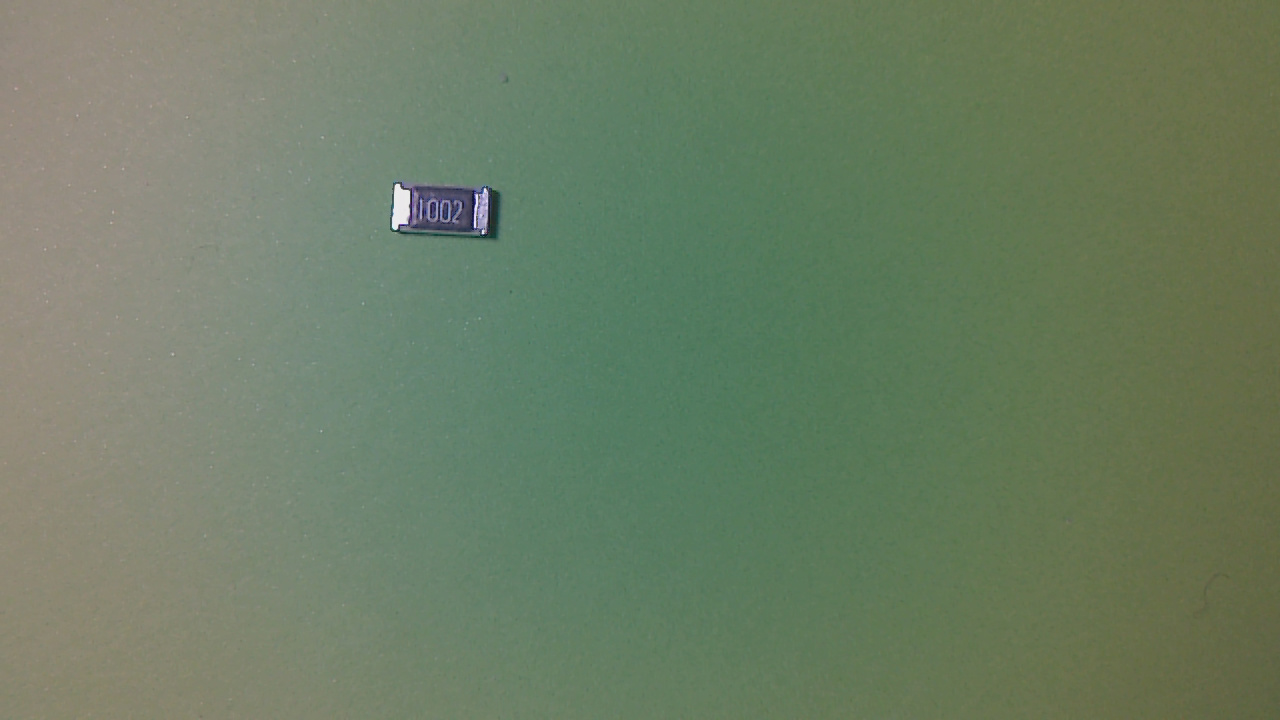Resistor: (392, 186, 510, 251)
